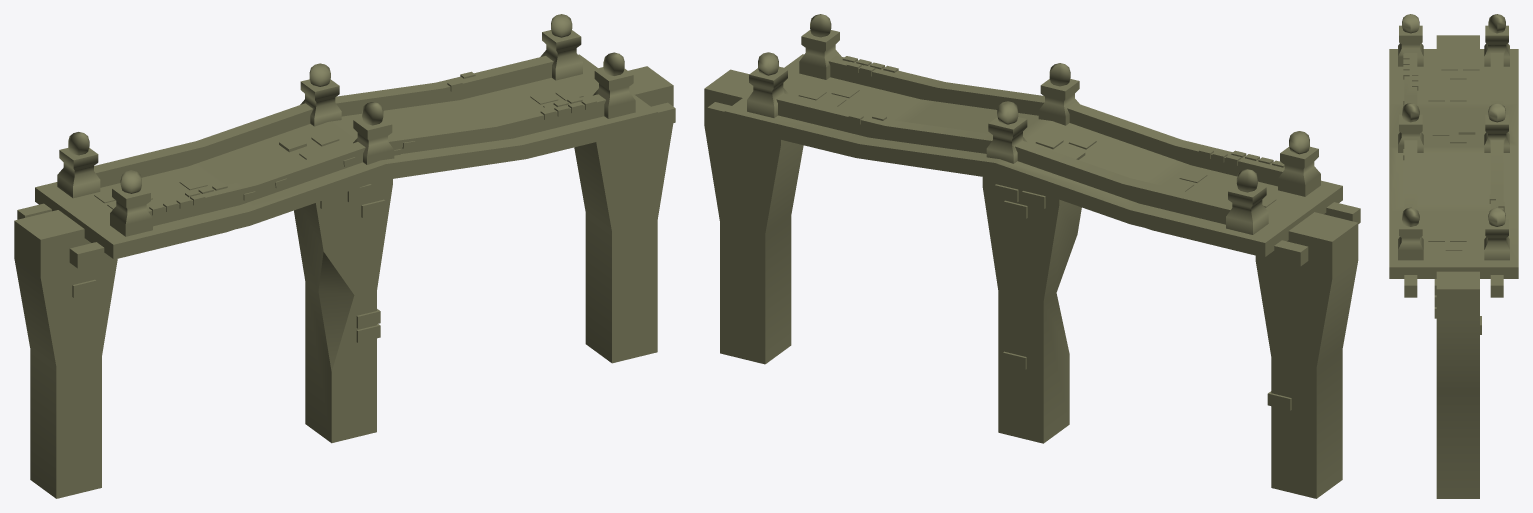
File: Rock_Bridge01.fbx
3 views of the same model, side by side, from view 1: azimuth 30°, elevation 25°; view 2: azimuth 150°, elevation 25°; view 3: azimuth 270°, elevation 25° (orthographic). The views are drawn at different scales.
Visible parts, largest first — view 1: Rock_Bridge01; view 2: Rock_Bridge01; view 3: Rock_Bridge01.
Boxes of the visible parts, <box> form: Rock_Bridge01: <box>14,14,675,498</box>; Rock_Bridge01: <box>704,14,1360,498</box>; Rock_Bridge01: <box>1389,14,1518,498</box>.
Size of the model in its own units: 11.37 by 5.93 by 2.45.
